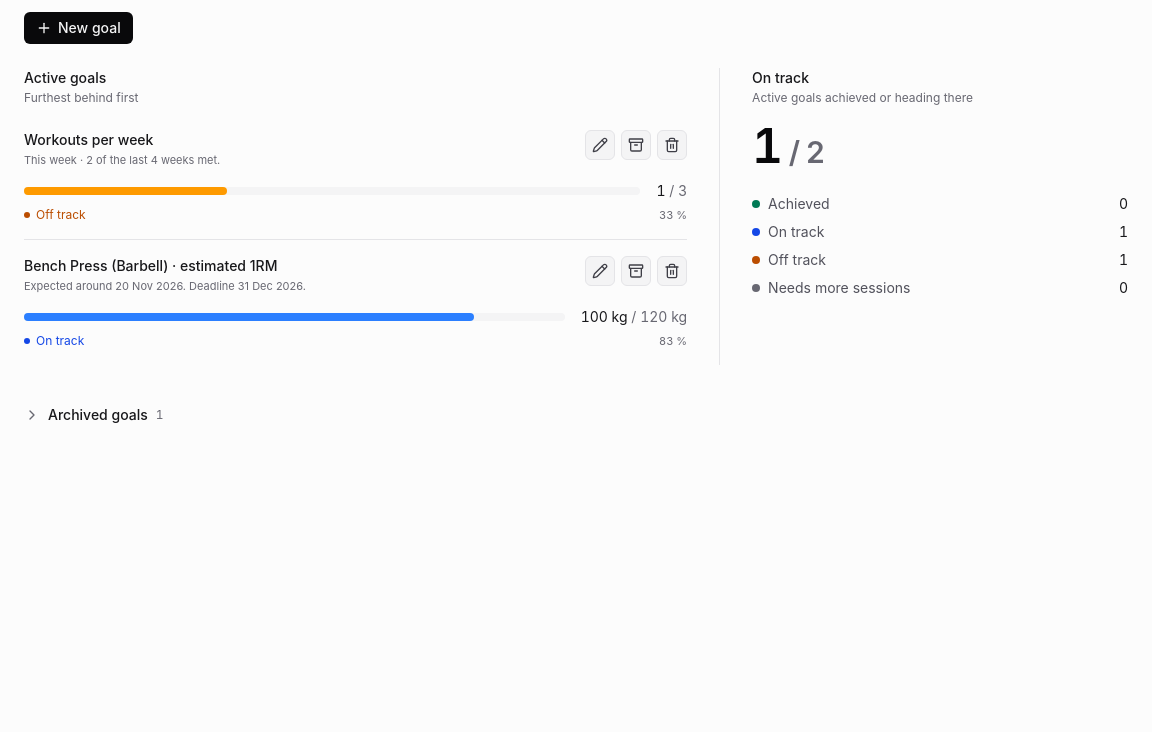
Test: views › renders the goals page with active and archived goals
The image size is (1152, 732).
Click the button "Archived goals 1": (94, 415) [24,405,164,425]
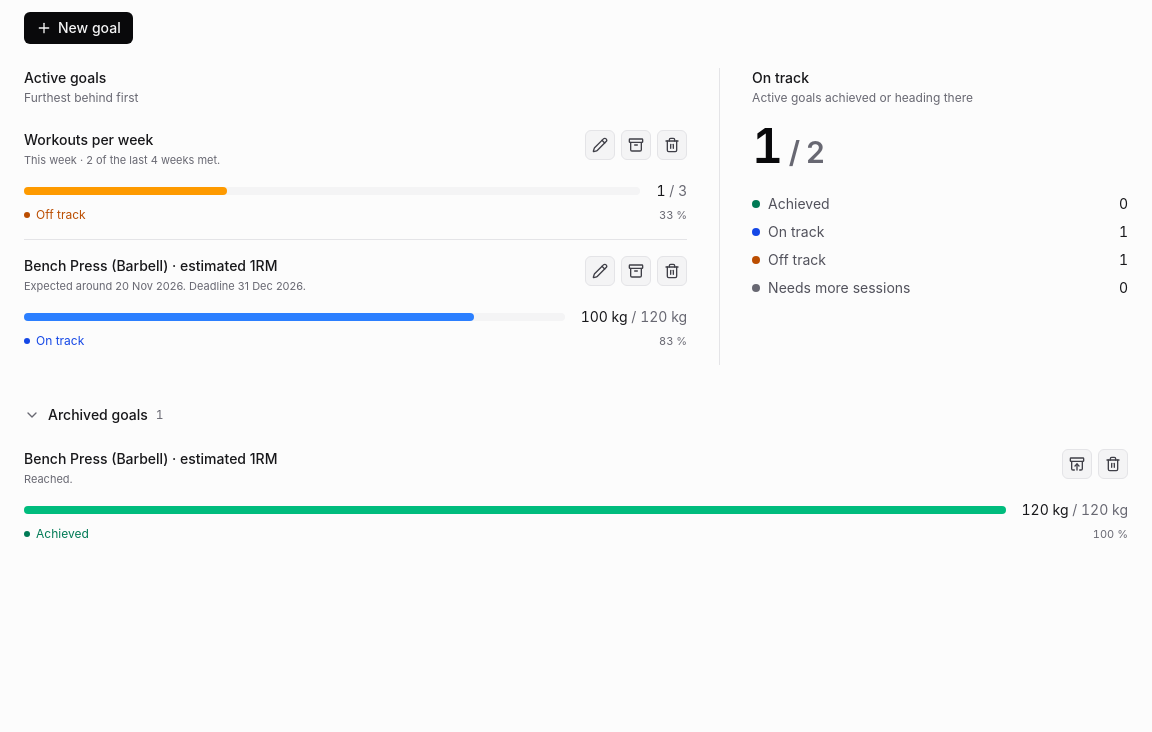
Now the number of buttons named "Restore goal" is 1, box [1062,449,1092,479]
